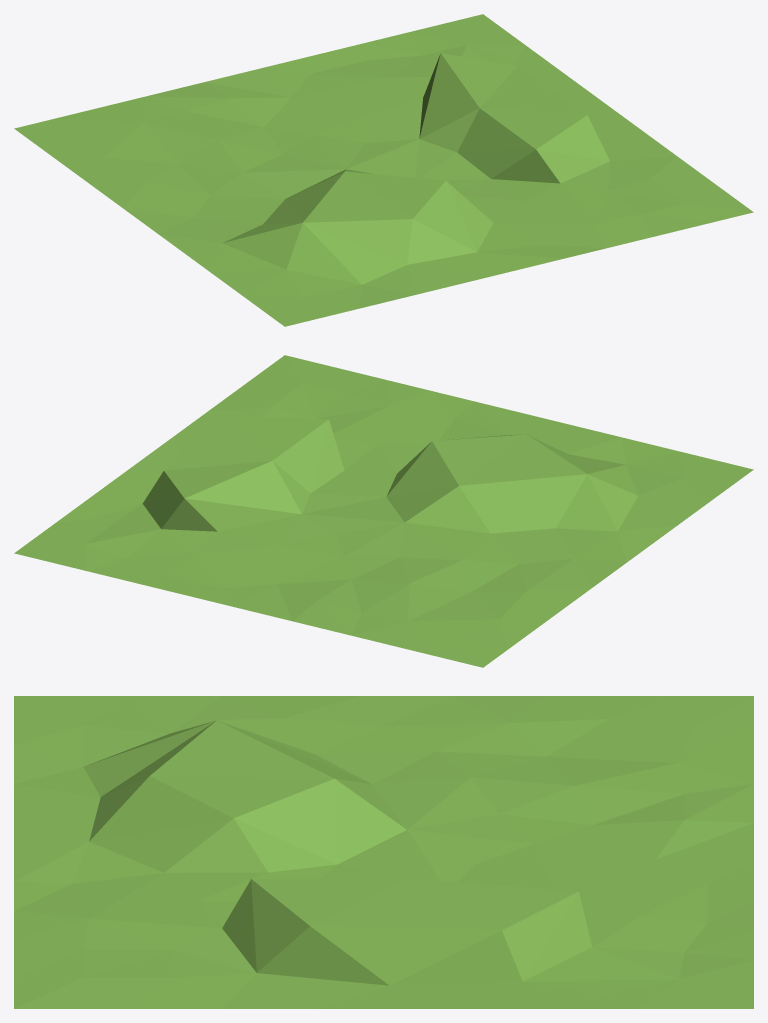
Rendered from MT_Terrain_S_c_18.fbx.
The picture shows the model from 3 angles, top to bottom: view 1: azimuth 30°, elevation 25°; view 2: azimuth 150°, elevation 25°; view 3: azimuth 270°, elevation 25°; orthographic projection. The views are drawn at different scales.
Parts seen in each view (by area): view 1: MT_Terrain_S_c_18; view 2: MT_Terrain_S_c_18; view 3: MT_Terrain_S_c_18.
Boxes of the visible parts, x1,y1,x2,y2 form: MT_Terrain_S_c_18: [14, 14, 753, 326]; MT_Terrain_S_c_18: [14, 355, 753, 667]; MT_Terrain_S_c_18: [14, 696, 753, 1008].
Bounding box in the file's own units: 2500 × 181 × 2500.
